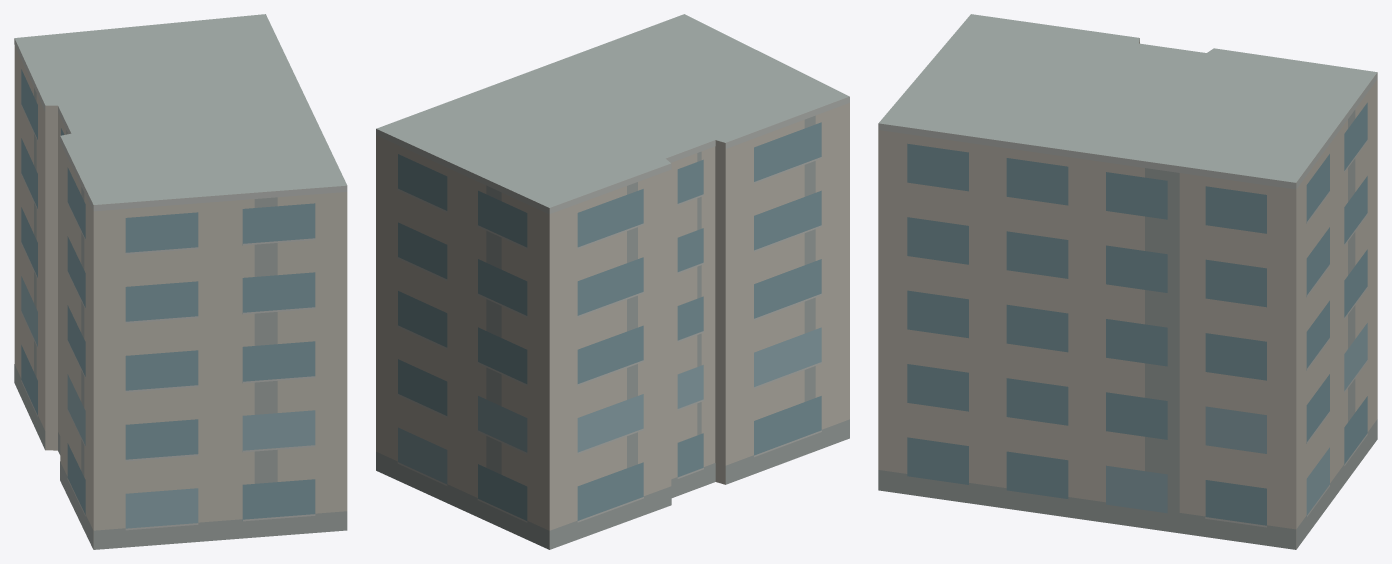
The model's file is survey-upis-32821759.glb.
3 views of the same model, side by side, from view 1: azimuth 30°, elevation 25°; view 2: azimuth 150°, elevation 25°; view 3: azimuth 270°, elevation 25° (orthographic). The views are drawn at different scales.
Parts seen in each view (by area): view 1: survey-upis-32821759.tmp; view 2: survey-upis-32821759.tmp; view 3: survey-upis-32821759.tmp.
Part boxes in pixels (bbox=[...]): survey-upis-32821759.tmp: bbox=[14, 14, 347, 549]; survey-upis-32821759.tmp: bbox=[376, 14, 849, 549]; survey-upis-32821759.tmp: bbox=[878, 14, 1377, 549].
Bounding box in the file's own units: 13.13 × 13.3 × 16.4.
